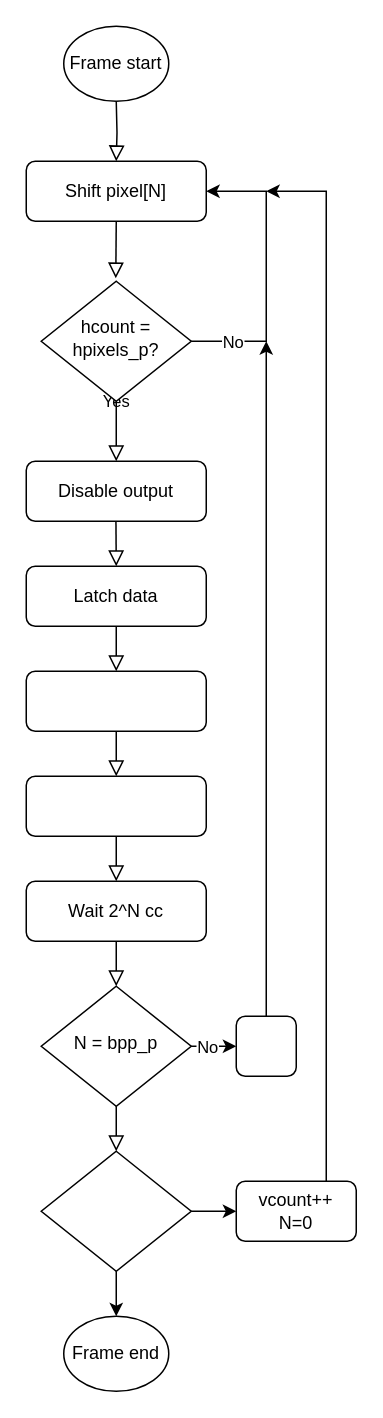
Image size: 383x1418. Some labels were removed from this diagram. Each missing label, with the box of its shape:
Enable output: (25, 775, 206, 836)
N++: (235, 1015, 296, 1076)
Select row: (25, 670, 206, 731)
vcount = vpixel_p?: (40, 1150, 191, 1271)
